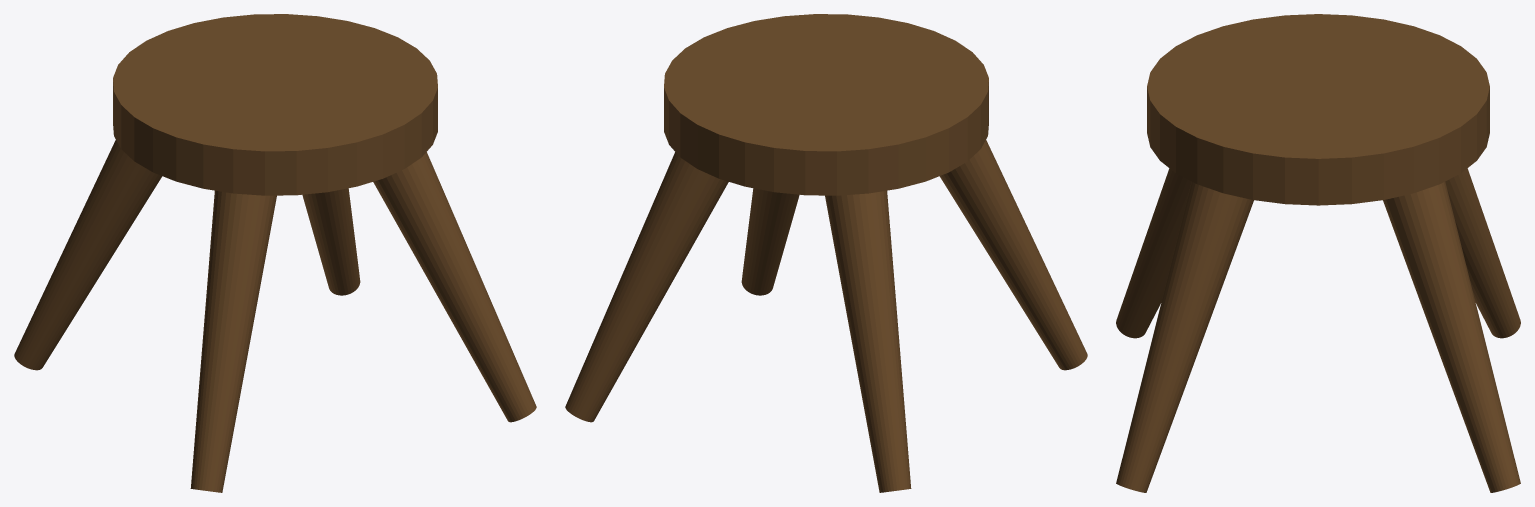
File: stool 2.fbx
The picture shows the model from 3 angles, left to right: view 1: azimuth 30°, elevation 25°; view 2: azimuth 150°, elevation 25°; view 3: azimuth 270°, elevation 25°; orthographic projection. The views are drawn at different scales.
Parts seen in each view (by area): view 1: Stool; view 2: Stool; view 3: Stool.
Part boxes in pixels (box(x1,y1,x2,y2)): Stool: box(14, 14, 536, 492); Stool: box(565, 14, 1087, 492); Stool: box(1116, 14, 1520, 492).
Size of the model in its own units: 243 by 210 by 236.
